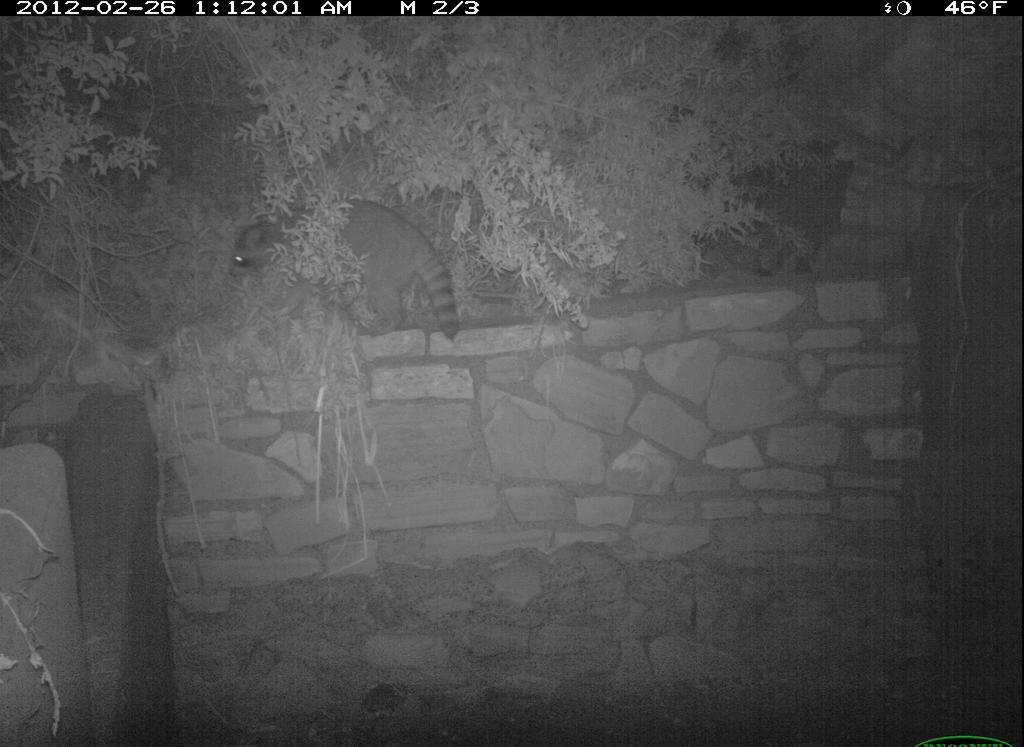raccoon: (225, 189, 474, 356)
